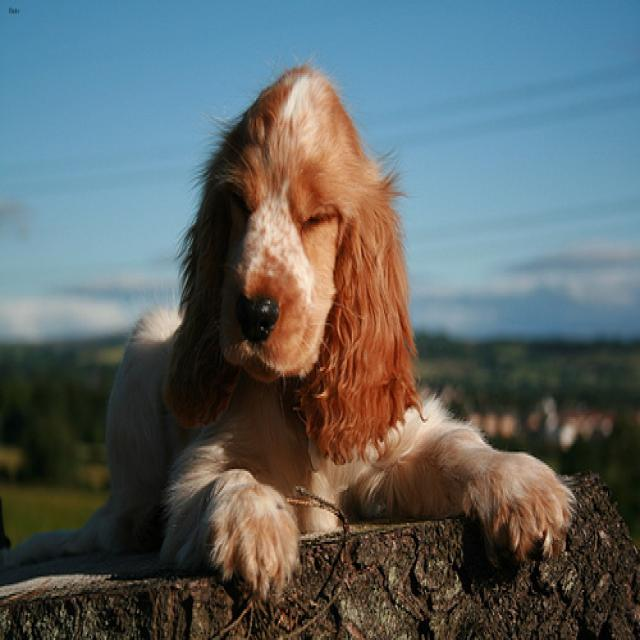dog-english_cocker_spaniel: (1, 52, 582, 619)
